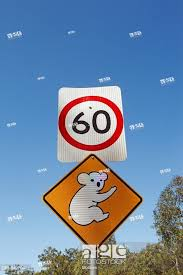sp60: (55, 90, 130, 156)
